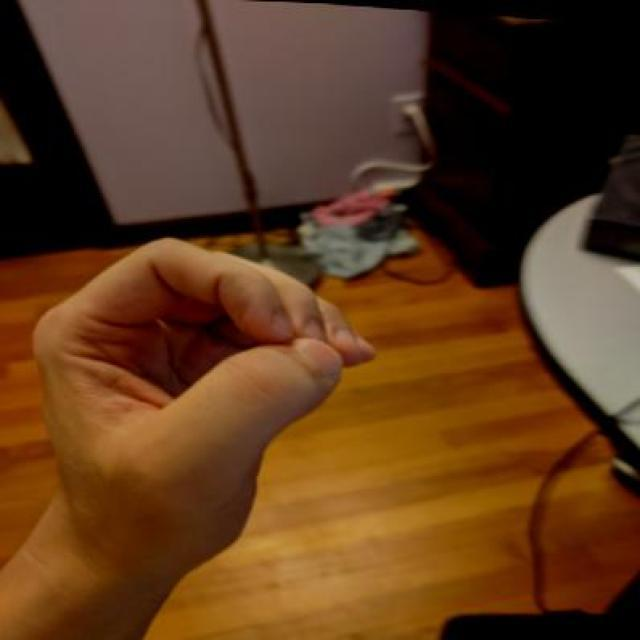O: (21, 222, 384, 585)
